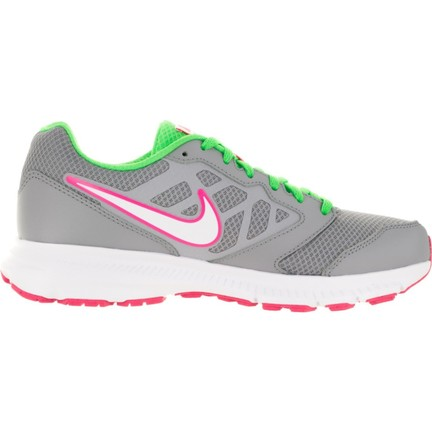nike: (67, 171, 224, 249)
